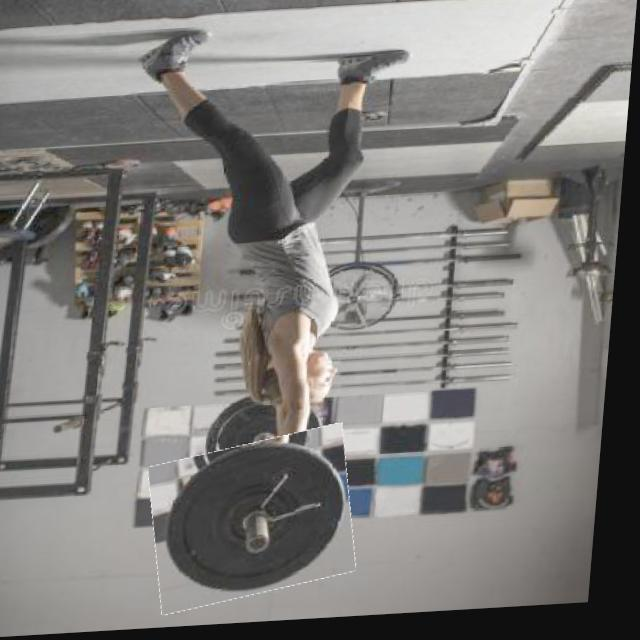barbell: (154, 435, 370, 612)
